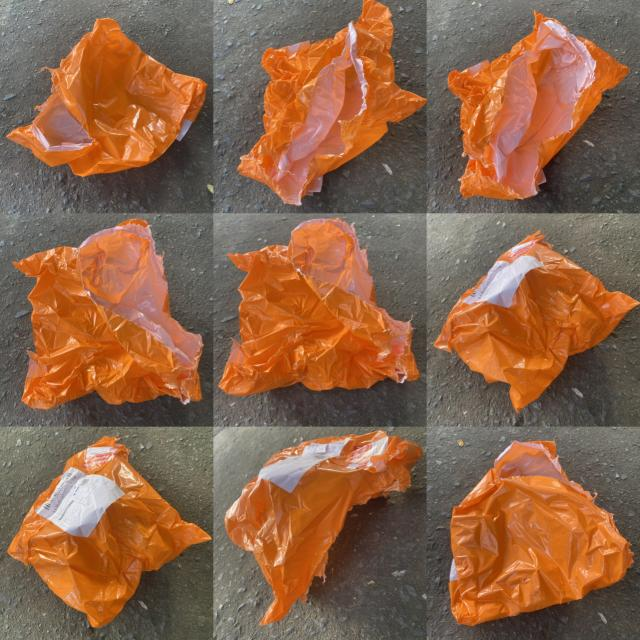Single-layer Plastic: (8, 436, 210, 627), (238, 0, 426, 204), (225, 431, 422, 624), (435, 231, 639, 411), (14, 220, 202, 409), (219, 219, 419, 395), (449, 441, 634, 624), (448, 12, 629, 199), (8, 19, 206, 176)
